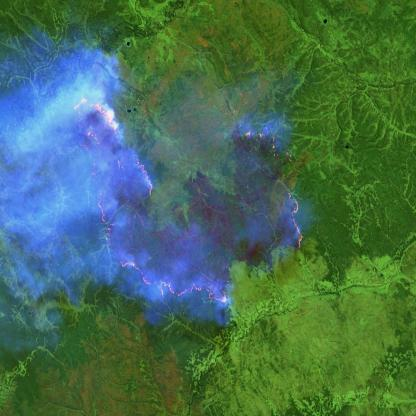fire: (68, 88, 306, 311)
